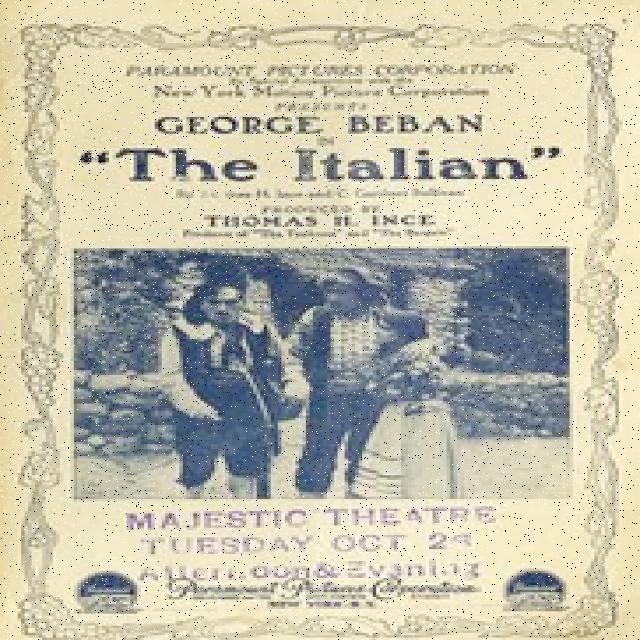movie-judul: (72, 137, 573, 190)
picture: (75, 249, 572, 500)
